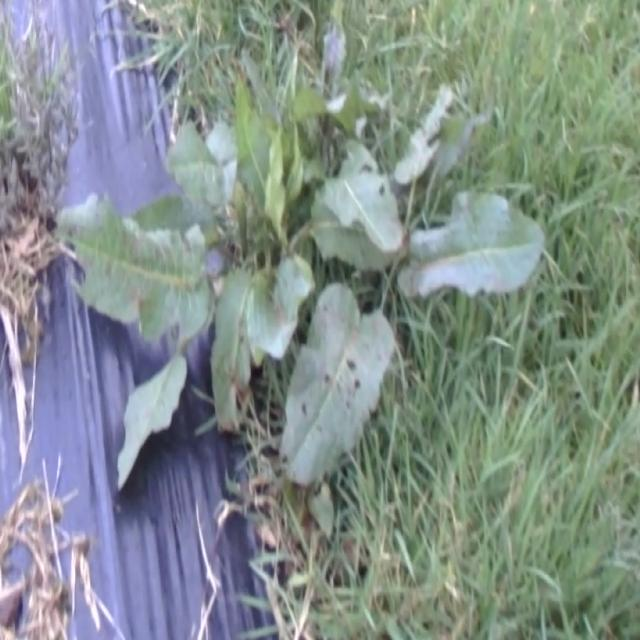organic waste: (32, 9, 550, 496), (0, 27, 418, 460), (301, 110, 575, 484)
